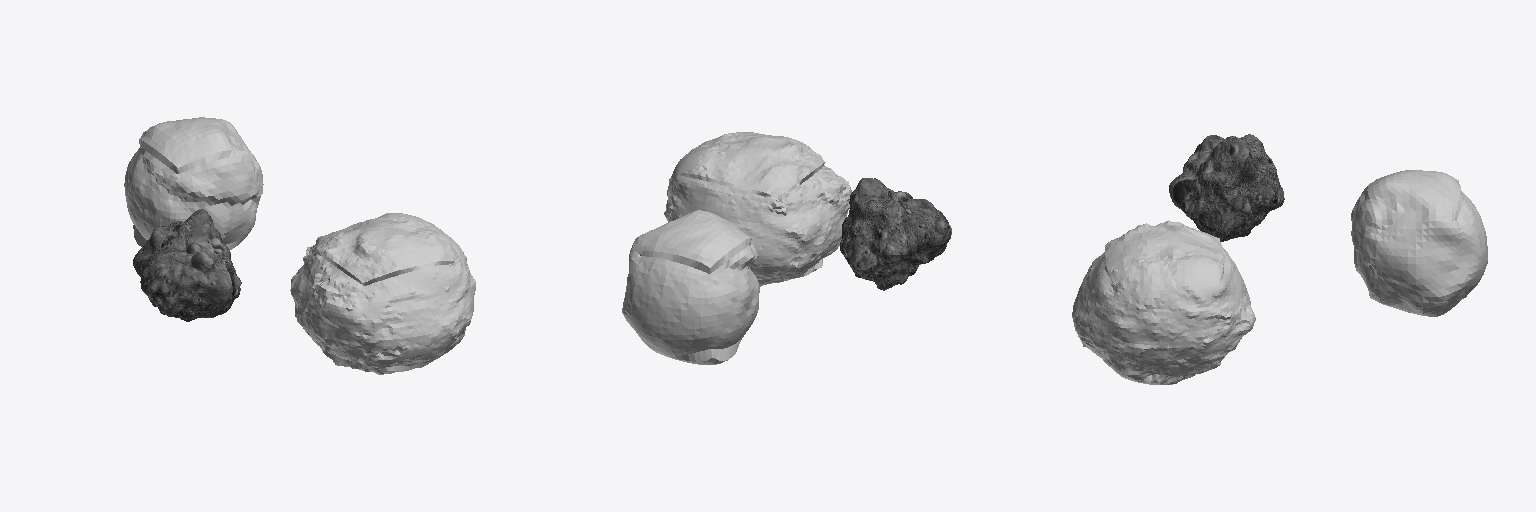
3 views of the same model, side by side, from view 1: azimuth 30°, elevation 25°; view 2: azimuth 150°, elevation 25°; view 3: azimuth 270°, elevation 25° (orthographic).
Visible parts, largest first — view 1: Cube_Cube.001, Cube_Cube.000, Sphere_Sphere.002; view 2: Cube_Cube.001, Cube_Cube.000, Sphere_Sphere.002; view 3: Cube_Cube.001, Cube_Cube.000, Sphere_Sphere.002.
Boxes of the visible parts, <box> form: Cube_Cube.001: <box>290,213,475,374</box>; Cube_Cube.000: <box>124,117,263,249</box>; Sphere_Sphere.002: <box>133,209,241,321</box>; Cube_Cube.001: <box>664,132,851,286</box>; Cube_Cube.000: <box>622,210,759,364</box>; Sphere_Sphere.002: <box>840,178,951,290</box>; Cube_Cube.001: <box>1072,220,1255,384</box>; Cube_Cube.000: <box>1351,170,1487,316</box>; Sphere_Sphere.002: <box>1169,134,1284,241</box>.
Bounding box in the file's own units: 6.64 × 3.53 × 8.17.
Materials: 3 (1 with a texture image).